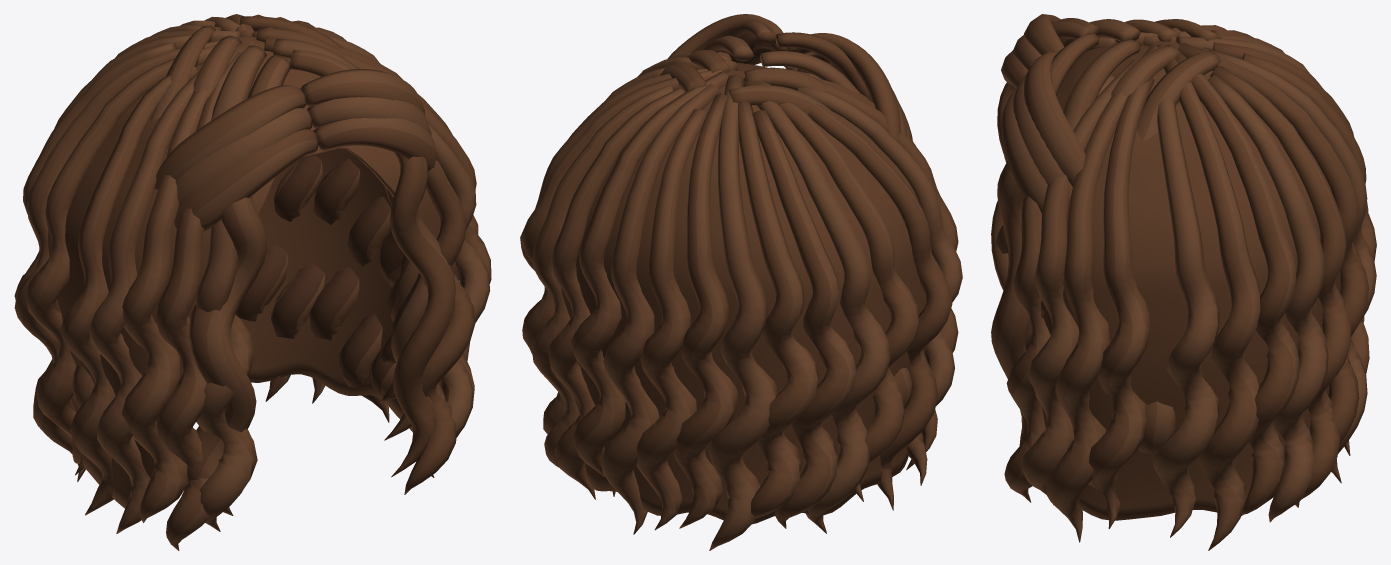
File: corte-feminino-08.glb
3 views of the same model, side by side, from view 1: azimuth 30°, elevation 25°; view 2: azimuth 150°, elevation 25°; view 3: azimuth 270°, elevation 25° (orthographic). The views are drawn at different scales.
Parts seen in each view (by area): view 1: RCL_Corte_Feminino_08; view 2: RCL_Corte_Feminino_08; view 3: RCL_Corte_Feminino_08.
Boxes of the visible parts, box(x1,y1,x2,y2) form: RCL_Corte_Feminino_08: box(14, 14, 491, 550); RCL_Corte_Feminino_08: box(520, 14, 962, 550); RCL_Corte_Feminino_08: box(991, 14, 1376, 550).
Bounding box in the file's own units: 0.2978 × 0.3133 × 0.2459.
